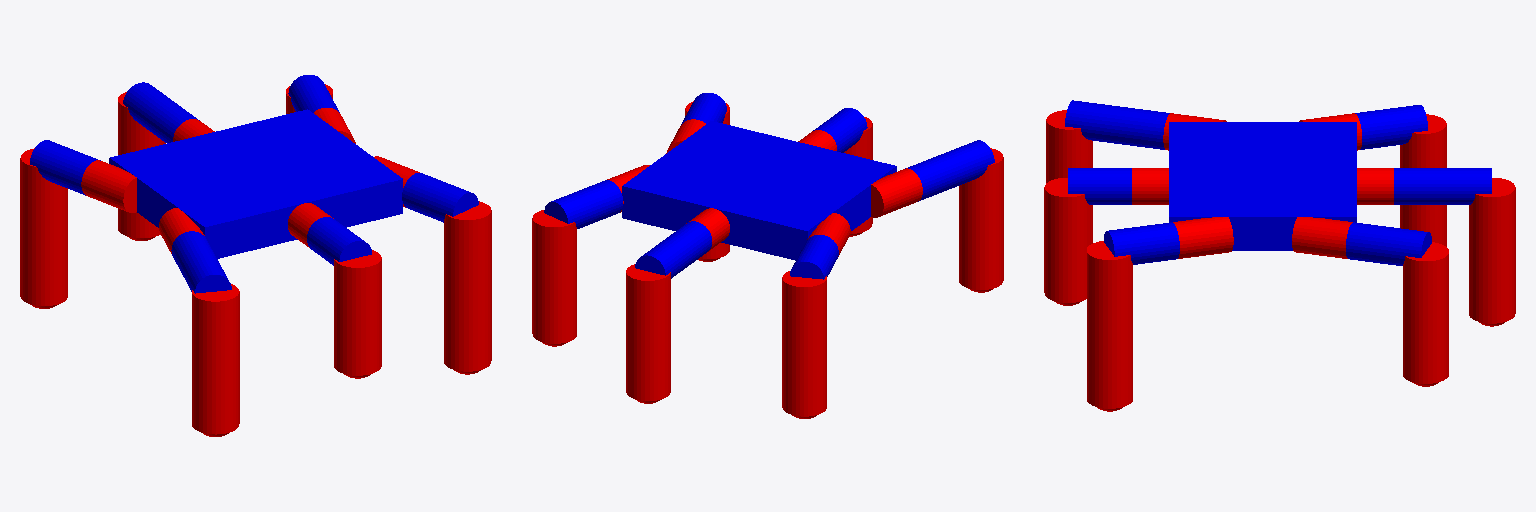
--- What the picture shows (computed from the rendered views, not written in the file) ---
The picture shows the robot from 3 angles, left to right: view 1: azimuth 30°, elevation 25°; view 2: azimuth 150°, elevation 25°; view 3: azimuth 270°, elevation 25°; orthographic projection.
Robot: pexod — 19 links, 18 joints (18 revolute); root link base_link; default pose: every joint at zero.
Links seen in each view (by area): view 1: base_link, leg_3_3, leg_5_3, leg_0_3, leg_4_3, leg_5_2, leg_3_2, leg_1_2, leg_1_3, leg_0_1, leg_0_2, leg_4_2 (+5 smaller); view 2: base_link, leg_0_3, leg_1_3, leg_2_3, leg_5_3, leg_5_2, leg_1_2, leg_2_2, leg_5_1, leg_0_2, leg_4_2, leg_3_2 (+3 smaller); view 3: base_link, leg_3_3, leg_1_3, leg_2_3, leg_4_3, leg_5_2, leg_1_2, leg_0_3, leg_2_2, leg_3_2, leg_5_3, leg_0_2 (+5 smaller).
Link boxes in pixels (box(x1,y1,x2,y2)): base_link: box(109, 109, 402, 258); leg_3_3: box(444, 201, 491, 374); leg_5_3: box(192, 284, 239, 436); leg_0_3: box(20, 148, 67, 308); leg_4_3: box(334, 250, 381, 378); leg_5_2: box(171, 231, 231, 293); leg_3_2: box(402, 173, 478, 222); leg_1_2: box(123, 82, 199, 142); leg_1_3: box(118, 92, 165, 240); leg_0_1: box(81, 160, 136, 212); leg_0_2: box(30, 140, 100, 195); leg_4_2: box(307, 217, 371, 265); base_link: box(622, 121, 896, 260); leg_0_3: box(782, 271, 826, 418); leg_1_3: box(626, 264, 670, 403); leg_2_3: box(532, 210, 576, 346); leg_5_3: box(959, 148, 1003, 292); leg_5_2: box(905, 140, 994, 201); leg_1_2: box(635, 221, 711, 278); leg_2_2: box(544, 180, 622, 228); leg_5_1: box(871, 168, 922, 217); leg_0_2: box(790, 235, 838, 279); leg_4_2: box(813, 108, 867, 152); leg_3_2: box(681, 93, 726, 124); base_link: box(1169, 122, 1356, 250); leg_3_3: box(1087, 241, 1132, 411); leg_1_3: box(1469, 178, 1515, 326); leg_2_3: box(1403, 242, 1448, 386); leg_4_3: box(1044, 178, 1090, 305); leg_5_2: box(1065, 100, 1169, 149); leg_1_2: box(1394, 168, 1491, 204); leg_0_3: box(1400, 114, 1446, 246); leg_2_2: box(1346, 222, 1431, 265); leg_3_2: box(1104, 222, 1179, 264); leg_5_3: box(1046, 110, 1092, 243); leg_0_2: box(1355, 105, 1427, 149).
Bounding box of the posed robot: 0.3826 × 0.5028 × 0.2076 m (x, y, z).
Geometry: primitives only (box / cylinder / sphere), no mesh files.

robot.urdf — pexod:
<?xml version="1.0" ?>
<!-- =================================================================================== -->
<!-- |    This document was autogenerated by xacro from pexod.xacro                    | -->
<!-- |    EDITING THIS FILE BY HAND IS NOT RECOMMENDED                                 | -->
<!-- =================================================================================== -->
<robot name="pexod" xmlns:xacro="http://www.ros.org/wiki/xacro">
  <!-- <xacro:include filename="$(find pexod_description)/urdf/pexod_control.xacro" /> -->
  <!-- MATERIALS -->
  <material name="Blue">
    <color rgba="0 0 1 1"/>
  </material>
  <material name="Red">
    <color rgba="1 0 0 1"/>
  </material>
  <material name="Green">
    <color rgba="0 1 0 1"/>
  </material>
  <material name="Yellow">
    <color rgba="1 1 0 1"/>
  </material>
  <material name="LightGrey">
    <color rgba="0.6 0.6 0.6 1.0"/>
  </material>
  <!-- END OF MATERIALS -->
  <!-- XACRO MACROS FOR VISUALS AND COLLISIONS -->
  <!-- END OF XACRO MACROS -->
  <!-- TORSO -->
  <link name="base_link">
    <visual>
      <origin rpy="0 0 0" xyz="0 0 0"/>
      <geometry>
        <box size="0.24 0.2 0.04"/>
      </geometry>
      <material name="Blue"/>
    </visual>
    <collision>
      <origin rpy="0 0 0" xyz="0 0 0"/>
      <geometry>
        <box size="0.24 0.2 0.04"/>
      </geometry>
    </collision>
    <inertial>
      <!-- CENTER OF MASS -->
      <origin rpy="0 0 0" xyz="0 0 0"/>
      <mass value="1.031"/>
      <!-- box inertia: 1/12*m(y^2+z^2), ... -->
      <inertia ixx="0.00357413333333" ixy="0" ixz="0" iyy="0.00508626666667" iyz="0" izz="0.00838546666667"/>
    </inertial>
  </link>
  <!-- XACRO MACRO FOR LEGS LINKS/JOINTS -->
  <!-- END OF LEG LINKS/JOINTS -->
  <joint name="body_leg_2" type="revolute">
    <parent link="base_link"/>
    <child link="leg_2_1"/>
    <limit effort="30.0" lower="-1.57079632679" upper="1.57079632679" velocity="7.0"/>
    <origin rpy="0 0 -0.3" xyz="0.11 0.04 0"/>
    <!-- <xacro:if value="${index == 5 or index == 4 or index == 3}">
                <axis xyz="0 0 1"/>
            </xacro:if>
            <xacro:if value="${index == 2 or index == 1 or index == 0}"> -->
    <axis xyz="0 0 1"/>
    <!-- </xacro:if> -->
    <dynamics damping="0.0"/>
  </joint>
  <link name="leg_2_1">
    <visual>
      <origin rpy="1.57079632679 0 0" xyz="0.01 0.03 0"/>
      <geometry>
        <cylinder length="0.06" radius="0.02"/>
      </geometry>
      <material name="Red"/>
    </visual>
    <collision>
      <origin rpy="1.57079632679 0 0" xyz="0.01 0.03 0"/>
      <geometry>
        <box size="0.02 0.02 0.06"/>
      </geometry>
    </collision>
    <inertial>
      <!-- CENTER OF MASS -->
      <origin rpy="1.57079632679 0 0" xyz="0.01 0.03 0"/>
      <mass value="0.02"/>
      <!-- box inertia: 1/12*m(y^2+z^2), ... -->
      <inertia ixx="6.66666666667e-06" ixy="0" ixz="0" iyy="6.66666666667e-06" iyz="0" izz="1.33333333333e-06"/>
    </inertial>
  </link>
  <joint name="leg_2_1_2" type="revolute">
    <parent link="leg_2_1"/>
    <child link="leg_2_2"/>
    <limit effort="30.0" lower="-0.78539816339" upper="0.78539816339" velocity="7.0"/>
    <origin rpy="0 0 0" xyz="0 0.06 0"/>
    <axis xyz="1 0 0"/>
    <dynamics damping="0.0"/>
  </joint>
  <link name="leg_2_2">
    <visual>
      <origin rpy="1.57079632679 0 0" xyz="0.01 0.0420885514323 0"/>
      <geometry>
        <cylinder length="0.0841771028647" radius="0.02"/>
      </geometry>
      <material name="Blue"/>
    </visual>
    <collision>
      <origin rpy="1.57079632679 0 0" xyz="0.01 0.0420885514323 0"/>
      <geometry>
        <box size="0.02 0.02 0.0841771028647"/>
      </geometry>
    </collision>
    <inertial>
      <!-- CENTER OF MASS -->
      <origin rpy="1.57079632679 0 0" xyz="0.01 0.0420885514323 0"/>
      <mass value="0.184"/>
      <!-- box inertia: 1/12*m(y^2+z^2), ... -->
      <inertia ixx="0.000114782031249" ixy="0" ixz="0" iyy="0.000114782031249" iyz="0" izz="1.22666666667e-05"/>
    </inertial>
  </link>
  <joint name="leg_2_2_3" type="revolute">
    <parent link="leg_2_2"/>
    <child link="leg_2_3"/>
    <limit effort="30.0" lower="-0.78539816339" upper="0.78539816339" velocity="7.0"/>
    <origin rpy="-1.57079632679 0 0" xyz="0 0.0841771028647 0"/>
    <axis xyz="-1 0 0"/>
    <dynamics damping="0.0"/>
  </joint>
  <link name="leg_2_3">
    <visual>
      <origin rpy="1.57079632679 0 0" xyz="0.0125 0.072118153551 0"/>
      <geometry>
        <cylinder length="0.144236307102" radius="0.025"/>
      </geometry>
      <material name="Red"/>
    </visual>
    <visual>
      <origin rpy="1.57079632679 0 0" xyz="0.0125 0.131736307102 0"/>
      <geometry>
        <sphere radius="0.025"/>
      </geometry>
      <material name="Red"/>
    </visual>
    <collision>
      <origin rpy="1.57079632679 0 0" xyz="0.0125 0.072118153551 0"/>
      <geometry>
        <box size="0.025 0.025 0.144236307102"/>
      </geometry>
    </collision>
    <collision>
      <origin rpy="1.57079632679 0 0" xyz="0.0125 0.131736307102 0"/>
      <geometry>
        <sphere radius="0.025"/>
      </geometry>
      <material name="Red"/>
    </collision>
    <inertial>
      <!-- CENTER OF MASS -->
      <origin rpy="1.57079632679 0 0" xyz="0.0125 0.072118153551 0"/>
      <mass value="0.04"/>
      <!-- box inertia: 1/12*m(y^2+z^2), ... -->
      <inertia ixx="7.14303742881e-05" ixy="0" ixz="0" iyy="7.14303742881e-05" iyz="0" izz="4.16666666667e-06"/>
    </inertial>
  </link>
  <joint name="body_leg_3" type="revolute">
    <parent link="base_link"/>
    <child link="leg_3_1"/>
    <limit effort="30.0" lower="-1.57079632679" upper="1.57079632679" velocity="7.0"/>
    <origin rpy="0 0 0.3" xyz="0.11 -0.04 0"/>
    <!-- <xacro:if value="${index == 5 or index == 4 or index == 3}">
                <axis xyz="0 0 1"/>
            </xacro:if>
            <xacro:if value="${index == 2 or index == 1 or index == 0}"> -->
    <axis xyz="0 0 1"/>
    <!-- </xacro:if> -->
    <dynamics damping="0.0"/>
  </joint>
  <link name="leg_3_1">
    <visual>
      <origin rpy="1.57079632679 0 0" xyz="0.01 -0.03 0"/>
      <geometry>
        <cylinder length="0.06" radius="0.02"/>
      </geometry>
      <material name="Red"/>
    </visual>
    <collision>
      <origin rpy="1.57079632679 0 0" xyz="0.01 -0.03 0"/>
      <geometry>
        <box size="0.02 0.02 0.06"/>
      </geometry>
    </collision>
    <inertial>
      <!-- CENTER OF MASS -->
      <origin rpy="1.57079632679 0 0" xyz="0.01 -0.03 0"/>
      <mass value="0.02"/>
      <!-- box inertia: 1/12*m(y^2+z^2), ... -->
      <inertia ixx="6.66666666667e-06" ixy="0" ixz="0" iyy="6.66666666667e-06" iyz="0" izz="1.33333333333e-06"/>
    </inertial>
  </link>
  <joint name="leg_3_1_2" type="revolute">
    <parent link="leg_3_1"/>
    <child link="leg_3_2"/>
    <limit effort="30.0" lower="-0.78539816339" upper="0.78539816339" velocity="7.0"/>
    <origin rpy="0 0 0" xyz="0 -0.06 0"/>
    <axis xyz="-1 0 0"/>
    <dynamics damping="0.0"/>
  </joint>
  <link name="leg_3_2">
    <visual>
      <origin rpy="1.57079632679 0 0" xyz="0.01 -0.0364114203097 0"/>
      <geometry>
        <cylinder length="0.0728228406194" radius="0.02"/>
      </geometry>
      <material name="Blue"/>
    </visual>
    <collision>
      <origin rpy="1.57079632679 0 0" xyz="0.01 -0.0364114203097 0"/>
      <geometry>
        <box size="0.02 0.02 0.0728228406194"/>
      </geometry>
    </collision>
    <inertial>
      <!-- CENTER OF MASS -->
      <origin rpy="1.57079632679 0 0" xyz="0.01 -0.0364114203097 0"/>
      <mass value="0.184"/>
      <!-- box inertia: 1/12*m(y^2+z^2), ... -->
      <inertia ixx="8.74485471101e-05" ixy="0" ixz="0" iyy="8.74485471101e-05" iyz="0" izz="1.22666666667e-05"/>
    </inertial>
  </link>
  <joint name="leg_3_2_3" type="revolute">
    <parent link="leg_3_2"/>
    <child link="leg_3_3"/>
    <limit effort="30.0" lower="-0.78539816339" upper="0.78539816339" velocity="7.0"/>
    <origin rpy="1.57079632679 0 0" xyz="0 -0.0728228406194 0"/>
    <axis xyz="1 0 0"/>
    <dynamics damping="0.0"/>
  </joint>
  <link name="leg_3_3">
    <visual>
      <origin rpy="1.57079632679 0 0" xyz="0.0125 -0.087526553949 0"/>
      <geometry>
        <cylinder length="0.175053107898" radius="0.025"/>
      </geometry>
      <material name="Red"/>
    </visual>
    <visual>
      <origin rpy="1.57079632679 0 0" xyz="0.0125 -0.162553107898 0"/>
      <geometry>
        <sphere radius="0.025"/>
      </geometry>
      <material name="Red"/>
    </visual>
    <collision>
      <origin rpy="1.57079632679 0 0" xyz="0.0125 -0.087526553949 0"/>
      <geometry>
        <box size="0.025 0.025 0.175053107898"/>
      </geometry>
    </collision>
    <collision>
      <origin rpy="1.57079632679 0 0" xyz="0.0125 -0.162553107898 0"/>
      <geometry>
        <sphere radius="0.025"/>
      </geometry>
      <material name="Red"/>
    </collision>
    <inertial>
      <!-- CENTER OF MASS -->
      <origin rpy="1.57079632679 0 0" xyz="0.0125 -0.087526553949 0"/>
      <mass value="0.04"/>
      <!-- box inertia: 1/12*m(y^2+z^2), ... -->
      <inertia ixx="0.000104228635282" ixy="0" ixz="0" iyy="0.000104228635282" iyz="0" izz="4.16666666667e-06"/>
    </inertial>
  </link>
  <joint name="body_leg_0" type="revolute">
    <parent link="base_link"/>
    <child link="leg_0_1"/>
    <limit effort="30.0" lower="-1.57079632679" upper="1.57079632679" velocity="7.0"/>
    <origin rpy="0 0 0.3" xyz="-0.13 0.04 0"/>
    <!-- <xacro:if value="${index == 5 or index == 4 or index == 3}">
                <axis xyz="0 0 1"/>
            </xacro:if>
            <xacro:if value="${index == 2 or index == 1 or index == 0}"> -->
    <axis xyz="0 0 1"/>
    <!-- </xacro:if> -->
    <dynamics damping="0.0"/>
  </joint>
  <link name="leg_0_1">
    <visual>
      <origin rpy="1.57079632679 0 0" xyz="0.01 0.03 0"/>
      <geometry>
        <cylinder length="0.06" radius="0.02"/>
      </geometry>
      <material name="Red"/>
    </visual>
    <collision>
      <origin rpy="1.57079632679 0 0" xyz="0.01 0.03 0"/>
      <geometry>
        <box size="0.02 0.02 0.06"/>
      </geometry>
    </collision>
    <inertial>
      <!-- CENTER OF MASS -->
      <origin rpy="1.57079632679 0 0" xyz="0.01 0.03 0"/>
      <mass value="0.02"/>
      <!-- box inertia: 1/12*m(y^2+z^2), ... -->
      <inertia ixx="6.66666666667e-06" ixy="0" ixz="0" iyy="6.66666666667e-06" iyz="0" izz="1.33333333333e-06"/>
    </inertial>
  </link>
  <joint name="leg_0_1_2" type="revolute">
    <parent link="leg_0_1"/>
    <child link="leg_0_2"/>
    <limit effort="30.0" lower="-0.78539816339" upper="0.78539816339" velocity="7.0"/>
    <origin rpy="0 0 0" xyz="0 0.06 0"/>
    <axis xyz="1 0 0"/>
    <dynamics damping="0.0"/>
  </joint>
  <link name="leg_0_2">
    <visual>
      <origin rpy="1.57079632679 0 0" xyz="0.01 0.0368281691557 0"/>
      <geometry>
        <cylinder length="0.0736563383113" radius="0.02"/>
      </geometry>
      <material name="Blue"/>
    </visual>
    <collision>
      <origin rpy="1.57079632679 0 0" xyz="0.01 0.0368281691557 0"/>
      <geometry>
        <box size="0.02 0.02 0.0736563383113"/>
      </geometry>
    </collision>
    <inertial>
      <!-- CENTER OF MASS -->
      <origin rpy="1.57079632679 0 0" xyz="0.01 0.0368281691557 0"/>
      <mass value="0.184"/>
      <!-- box inertia: 1/12*m(y^2+z^2), ... -->
      <inertia ixx="8.93205946592e-05" ixy="0" ixz="0" iyy="8.93205946592e-05" iyz="0" izz="1.22666666667e-05"/>
    </inertial>
  </link>
  <joint name="leg_0_2_3" type="revolute">
    <parent link="leg_0_2"/>
    <child link="leg_0_3"/>
    <limit effort="30.0" lower="-0.78539816339" upper="0.78539816339" velocity="7.0"/>
    <origin rpy="-1.57079632679 0 0" xyz="0 0.0736563383113 0"/>
    <axis xyz="-1 0 0"/>
    <dynamics damping="0.0"/>
  </joint>
  <link name="leg_0_3">
    <visual>
      <origin rpy="1.57079632679 0 0" xyz="0.0125 0.0801117723245 0"/>
      <geometry>
        <cylinder length="0.160223544649" radius="0.025"/>
      </geometry>
      <material name="Red"/>
    </visual>
    <visual>
      <origin rpy="1.57079632679 0 0" xyz="0.0125 0.147723544649 0"/>
      <geometry>
        <sphere radius="0.025"/>
      </geometry>
      <material name="Red"/>
    </visual>
    <collision>
      <origin rpy="1.57079632679 0 0" xyz="0.0125 0.0801117723245 0"/>
      <geometry>
        <box size="0.025 0.025 0.160223544649"/>
      </geometry>
    </collision>
    <collision>
      <origin rpy="1.57079632679 0 0" xyz="0.0125 0.147723544649 0"/>
      <geometry>
        <sphere radius="0.025"/>
      </geometry>
      <material name="Red"/>
    </collision>
    <inertial>
      <!-- CENTER OF MASS -->
      <origin rpy="1.57079632679 0 0" xyz="0.0125 0.0801117723245 0"/>
      <mass value="0.04"/>
      <!-- box inertia: 1/12*m(y^2+z^2), ... -->
      <inertia ixx="8.76552808663e-05" ixy="0" ixz="0" iyy="8.76552808663e-05" iyz="0" izz="4.16666666667e-06"/>
    </inertial>
  </link>
  <joint name="body_leg_5" type="revolute">
    <parent link="base_link"/>
    <child link="leg_5_1"/>
    <limit effort="30.0" lower="-1.57079632679" upper="1.57079632679" velocity="7.0"/>
    <origin rpy="0 0 -0.3" xyz="-0.13 -0.04 0"/>
    <!-- <xacro:if value="${index == 5 or index == 4 or index == 3}">
                <axis xyz="0 0 1"/>
            </xacro:if>
            <xacro:if value="${index == 2 or index == 1 or index == 0}"> -->
    <axis xyz="0 0 1"/>
    <!-- </xacro:if> -->
    <dynamics damping="0.0"/>
  </joint>
  <link name="leg_5_1">
    <visual>
      <origin rpy="1.57079632679 0 0" xyz="0.01 -0.03 0"/>
      <geometry>
        <cylinder length="0.06" radius="0.02"/>
      </geometry>
      <material name="Red"/>
    </visual>
    <collision>
      <origin rpy="1.57079632679 0 0" xyz="0.01 -0.03 0"/>
      <geometry>
        <box size="0.02 0.02 0.06"/>
      </geometry>
    </collision>
    <inertial>
      <!-- CENTER OF MASS -->
      <origin rpy="1.57079632679 0 0" xyz="0.01 -0.03 0"/>
      <mass value="0.02"/>
      <!-- box inertia: 1/12*m(y^2+z^2), ... -->
      <inertia ixx="6.66666666667e-06" ixy="0" ixz="0" iyy="6.66666666667e-06" iyz="0" izz="1.33333333333e-06"/>
    </inertial>
  </link>
  <joint name="leg_5_1_2" type="revolute">
    <parent link="leg_5_1"/>
    <child link="leg_5_2"/>
    <limit effort="30.0" lower="-0.78539816339" upper="0.78539816339" velocity="7.0"/>
    <origin rpy="0 0 0" xyz="0 -0.06 0"/>
    <axis xyz="-1 0 0"/>
    <dynamics damping="0.0"/>
  </joint>
  <link name="leg_5_2">
    <visual>
      <origin rpy="1.57079632679 0 0" xyz="0.01 -0.0549709754285 0"/>
      <geometry>
        <cylinder length="0.109941950857" radius="0.02"/>
      </geometry>
      <material name="Blue"/>
    </visual>
    <collision>
      <origin rpy="1.57079632679 0 0" xyz="0.01 -0.0549709754285 0"/>
      <geometry>
        <box size="0.02 0.02 0.109941950857"/>
      </geometry>
    </collision>
    <inertial>
      <!-- CENTER OF MASS -->
      <origin rpy="1.57079632679 0 0" xyz="0.01 -0.0549709754285 0"/>
      <mass value="0.184"/>
      <!-- box inertia: 1/12*m(y^2+z^2), ... -->
      <inertia ixx="0.000191470899226" ixy="0" ixz="0" iyy="0.000191470899226" iyz="0" izz="1.22666666667e-05"/>
    </inertial>
  </link>
  <joint name="leg_5_2_3" type="revolute">
    <parent link="leg_5_2"/>
    <child link="leg_5_3"/>
    <limit effort="30.0" lower="-0.78539816339" upper="0.78539816339" velocity="7.0"/>
    <origin rpy="1.57079632679 0 0" xyz="0 -0.109941950857 0"/>
    <axis xyz="1 0 0"/>
    <dynamics damping="0.0"/>
  </joint>
  <link name="leg_5_3">
    <visual>
      <origin rpy="1.57079632679 0 0" xyz="0.0125 -0.076744143786 0"/>
      <geometry>
        <cylinder length="0.153488287572" radius="0.025"/>
      </geometry>
      <material name="Red"/>
    </visual>
    <visual>
      <origin rpy="1.57079632679 0 0" xyz="0.0125 -0.140988287572 0"/>
      <geometry>
        <sphere radius="0.025"/>
      </geometry>
      <material name="Red"/>
    </visual>
    <collision>
      <origin rpy="1.57079632679 0 0" xyz="0.0125 -0.076744143786 0"/>
      <geometry>
        <box size="0.025 0.025 0.153488287572"/>
      </geometry>
    </collision>
    <collision>
      <origin rpy="1.57079632679 0 0" xyz="0.0125 -0.140988287572 0"/>
      <geometry>
        <sphere radius="0.025"/>
      </geometry>
      <material name="Red"/>
    </collision>
    <inertial>
      <!-- CENTER OF MASS -->
      <origin rpy="1.57079632679 0 0" xyz="0.0125 -0.076744143786 0"/>
      <mass value="0.04"/>
      <!-- box inertia: 1/12*m(y^2+z^2), ... -->
      <inertia ixx="8.06121814059e-05" ixy="0" ixz="0" iyy="8.06121814059e-05" iyz="0" izz="4.16666666667e-06"/>
    </inertial>
  </link>
  <joint name="body_leg_1" type="revolute">
    <parent link="base_link"/>
    <child link="leg_1_1"/>
    <limit effort="30.0" lower="-1.57079632679" upper="1.57079632679" velocity="7.0"/>
    <origin rpy="0 0 0" xyz="-0.01 0.08 0"/>
    <!-- <xacro:if value="${index == 5 or index == 4 or index == 3}">
                <axis xyz="0 0 1"/>
            </xacro:if>
            <xacro:if value="${index == 2 or index == 1 or index == 0}"> -->
    <axis xyz="0 0 1"/>
    <!-- </xacro:if> -->
    <dynamics damping="0.0"/>
  </joint>
  <link name="leg_1_1">
    <visual>
      <origin rpy="1.57079632679 0 0" xyz="0.01 0.03 0"/>
      <geometry>
        <cylinder length="0.06" radius="0.02"/>
      </geometry>
      <material name="Red"/>
    </visual>
    <collision>
      <origin rpy="1.57079632679 0 0" xyz="0.01 0.03 0"/>
      <geometry>
        <box size="0.02 0.02 0.06"/>
      </geometry>
    </collision>
    <inertial>
      <!-- CENTER OF MASS -->
      <origin rpy="1.57079632679 0 0" xyz="0.01 0.03 0"/>
      <mass value="0.02"/>
      <!-- box inertia: 1/12*m(y^2+z^2), ... -->
      <inertia ixx="6.66666666667e-06" ixy="0" ixz="0" iyy="6.66666666667e-06" iyz="0" izz="1.33333333333e-06"/>
    </inertial>
  </link>
  <joint name="leg_1_1_2" type="revolute">
    <parent link="leg_1_1"/>
    <child link="leg_1_2"/>
    <limit effort="30.0" lower="-0.78539816339" upper="0.78539816339" velocity="7.0"/>
    <origin rpy="0 0 0" xyz="0 0.06 0"/>
    <axis xyz="1 0 0"/>
    <dynamics damping="0.0"/>
  </joint>
  <link name="leg_1_2">
    <visual>
      <origin rpy="1.57079632679 0 0" xyz="0.01 0.0523482243135 0"/>
      <geometry>
        <cylinder length="0.104696448627" radius="0.02"/>
      </geometry>
      <material name="Blue"/>
    </visual>
    <collision>
      <origin rpy="1.57079632679 0 0" xyz="0.01 0.0523482243135 0"/>
      <geometry>
        <box size="0.02 0.02 0.104696448627"/>
      </geometry>
    </collision>
    <inertial>
      <!-- CENTER OF MASS -->
      <origin rpy="1.57079632679 0 0" xyz="0.01 0.0523482243135 0"/>
      <mass value="0.184"/>
      <!-- box inertia: 1/12*m(y^2+z^2), ... -->
      <inertia ixx="0.000174207310778" ixy="0" ixz="0" iyy="0.000174207310778" iyz="0" izz="1.22666666667e-05"/>
    </inertial>
  </link>
  <joint name="leg_1_2_3" type="revolute">
    <parent link="leg_1_2"/>
    <child link="leg_1_3"/>
    <limit effort="30.0" lower="-0.78539816339" upper="0.78539816339" velocity="7.0"/>
    <origin rpy="-1.57079632679 0 0" xyz="0 0.104696448627 0"/>
    <axis xyz="-1 0 0"/>
    <dynamics damping="0.0"/>
  </joint>
  <link name="leg_1_3">
    <visual>
      <origin rpy="1.57079632679 0 0" xyz="0.0125 0.07440020684 0"/>
      <geometry>
        <cylinder length="0.14880041368" radius="0.025"/>
      </geometry>
      <material name="Red"/>
    </visual>
    <visual>
      <origin rpy="1.57079632679 0 0" xyz="0.0125 0.13630041368 0"/>
      <geometry>
        <sphere radius="0.025"/>
      </geometry>
      <material name="Red"/>
    </visual>
    <collision>
      <origin rpy="1.57079632679 0 0" xyz="0.0125 0.07440020684 0"/>
      <geometry>
        <box size="0.025 0.025 0.14880041368"/>
      </geometry>
    </collision>
    <collision>
      <origin rpy="1.57079632679 0 0" xyz="0.0125 0.13630041368 0"/>
      <geometry>
        <sphere radius="0.025"/>
      </geometry>
      <material name="Red"/>
    </collision>
    <inertial>
      <!-- CENTER OF MASS -->
      <origin rpy="1.57079632679 0 0" xyz="0.0125 0.07440020684 0"/>
      <mass value="0.04"/>
      <!-- box inertia: 1/12*m(y^2+z^2), ... -->
      <inertia ixx="7.58885437045e-05" ixy="0" ixz="0" iyy="7.58885437045e-05" iyz="0" izz="4.16666666667e-06"/>
    </inertial>
  </link>
  <joint name="body_leg_4" type="revolute">
    <parent link="base_link"/>
    <child link="leg_4_1"/>
    <limit effort="30.0" lower="-1.57079632679" upper="1.57079632679" velocity="7.0"/>
    <origin rpy="0 0 0" xyz="-0.01 -0.08 0"/>
    <!-- <xacro:if value="${index == 5 or index == 4 or index == 3}">
                <axis xyz="0 0 1"/>
            </xacro:if>
            <xacro:if value="${index == 2 or index == 1 or index == 0}"> -->
    <axis xyz="0 0 1"/>
    <!-- </xacro:if> -->
    <dynamics damping="0.0"/>
  </joint>
  <link name="leg_4_1">
    <visual>
      <origin rpy="1.57079632679 0 0" xyz="0.01 -0.03 0"/>
      <geometry>
        <cylinder length="0.06" radius="0.02"/>
      </geometry>
      <material name="Red"/>
    </visual>
    <collision>
      <origin rpy="1.57079632679 0 0" xyz="0.01 -0.03 0"/>
      <geometry>
        <box size="0.02 0.02 0.06"/>
      </geometry>
    </collision>
    <inertial>
      <!-- CENTER OF MASS -->
      <origin rpy="1.57079632679 0 0" xyz="0.01 -0.03 0"/>
      <mass value="0.02"/>
      <!-- box inertia: 1/12*m(y^2+z^2), ... -->
      <inertia ixx="6.66666666667e-06" ixy="0" ixz="0" iyy="6.66666666667e-06" iyz="0" izz="1.33333333333e-06"/>
    </inertial>
  </link>
  <joint name="leg_4_1_2" type="revolute">
    <parent link="leg_4_1"/>
    <child link="leg_4_2"/>
    <limit effort="30.0" lower="-0.78539816339" upper="0.78539816339" velocity="7.0"/>
    <origin rpy="0 0 0" xyz="0 -0.06 0"/>
    <axis xyz="-1 0 0"/>
    <dynamics damping="0.0"/>
  </joint>
  <link name="leg_4_2">
    <visual>
      <origin rpy="1.57079632679 0 0" xyz="0.01 -0.03402816709 0"/>
      <geometry>
        <cylinder length="0.06805633418" radius="0.02"/>
      </geometry>
      <material name="Blue"/>
    </visual>
    <collision>
      <origin rpy="1.57079632679 0 0" xyz="0.01 -0.03402816709 0"/>
      <geometry>
        <box size="0.02 0.02 0.06805633418"/>
      </geometry>
    </collision>
    <inertial>
      <!-- CENTER OF MASS -->
      <origin rpy="1.57079632679 0 0" xyz="0.01 -0.03402816709 0"/>
      <mass value="0.184"/>
      <!-- box inertia: 1/12*m(y^2+z^2), ... -->
      <inertia ixx="7.7152190871e-05" ixy="0" ixz="0" iyy="7.7152190871e-05" iyz="0" izz="1.22666666667e-05"/>
    </inertial>
  </link>
  <joint name="leg_4_2_3" type="revolute">
    <parent link="leg_4_2"/>
    <child link="leg_4_3"/>
    <limit effort="30.0" lower="-0.78539816339" upper="0.78539816339" velocity="7.0"/>
    <origin rpy="1.57079632679 0 0" xyz="0 -0.06805633418 0"/>
    <axis xyz="1 0 0"/>
    <dynamics damping="0.0"/>
  </joint>
  <link name="leg_4_3">
    <visual>
      <origin rpy="1.57079632679 0 0" xyz="0.0125 -0.06232348612 0"/>
      <geometry>
        <cylinder length="0.12464697224" radius="0.025"/>
      </geometry>
      <material name="Red"/>
    </visual>
    <visual>
      <origin rpy="1.57079632679 0 0" xyz="0.0125 -0.11214697224 0"/>
      <geometry>
        <sphere radius="0.025"/>
      </geometry>
      <material name="Red"/>
    </visual>
    <collision>
      <origin rpy="1.57079632679 0 0" xyz="0.0125 -0.06232348612 0"/>
      <geometry>
        <box size="0.025 0.025 0.12464697224"/>
      </geometry>
    </collision>
    <collision>
      <origin rpy="1.57079632679 0 0" xyz="0.0125 -0.11214697224 0"/>
      <geometry>
        <sphere radius="0.025"/>
      </geometry>
      <material name="Red"/>
    </collision>
    <inertial>
      <!-- CENTER OF MASS -->
      <origin rpy="1.57079632679 0 0" xyz="0.0125 -0.06232348612 0"/>
      <mass value="0.04"/>
      <!-- box inertia: 1/12*m(y^2+z^2), ... -->
      <inertia ixx="5.38728922953e-05" ixy="0" ixz="0" iyy="5.38728922953e-05" iyz="0" izz="4.16666666667e-06"/>
    </inertial>
  </link>
  <!-- END OF LEG LINKS/JOINTS -->
</robot>
